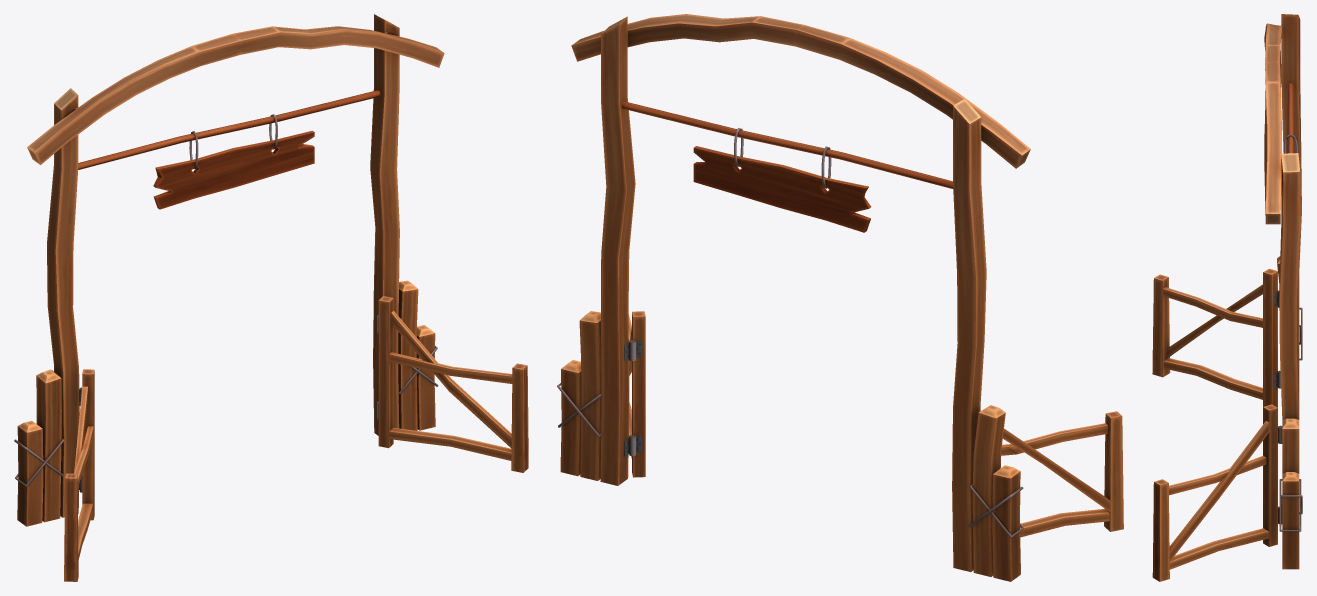
Rendered from Fences01_1.FBX.
3 views of the same model, side by side, from view 1: azimuth 30°, elevation 25°; view 2: azimuth 150°, elevation 25°; view 3: azimuth 270°, elevation 25° (orthographic). The views are drawn at different scales.
Visible parts, largest first — view 1: Fences01_1; view 2: Fences01_1; view 3: Fences01_1.
Part boxes in pixels (x1=…): Fences01_1: x1=14, y1=14, x2=528, y2=581; Fences01_1: x1=557, y1=14, x2=1123, y2=581; Fences01_1: x1=1152, y1=14, x2=1302, y2=581.
Size of what is drawn, in the model's own units: 4.46 by 4.07 by 1.33.
